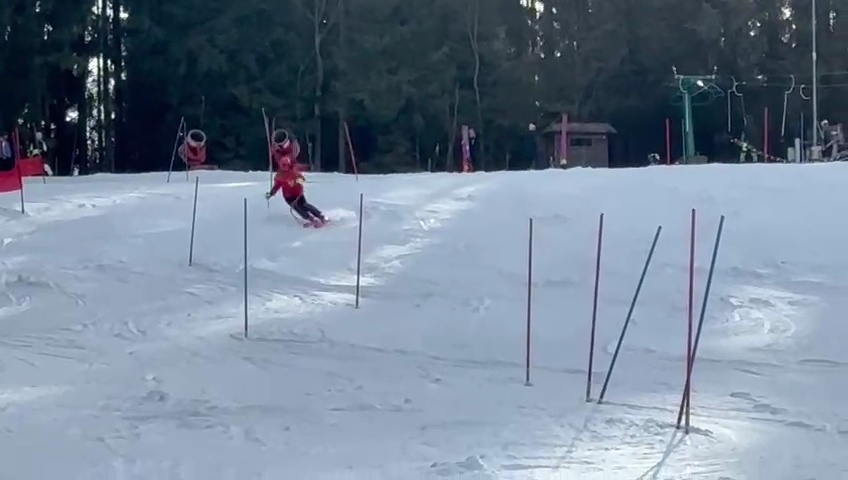gate: (595, 215, 665, 414), (678, 203, 731, 441), (675, 201, 698, 443), (584, 206, 606, 411), (521, 209, 542, 389), (237, 193, 259, 342), (350, 190, 371, 310), (263, 108, 280, 209), (9, 125, 28, 213), (186, 173, 202, 268), (163, 114, 183, 184), (341, 117, 361, 180), (181, 117, 193, 184), (460, 124, 471, 174)
